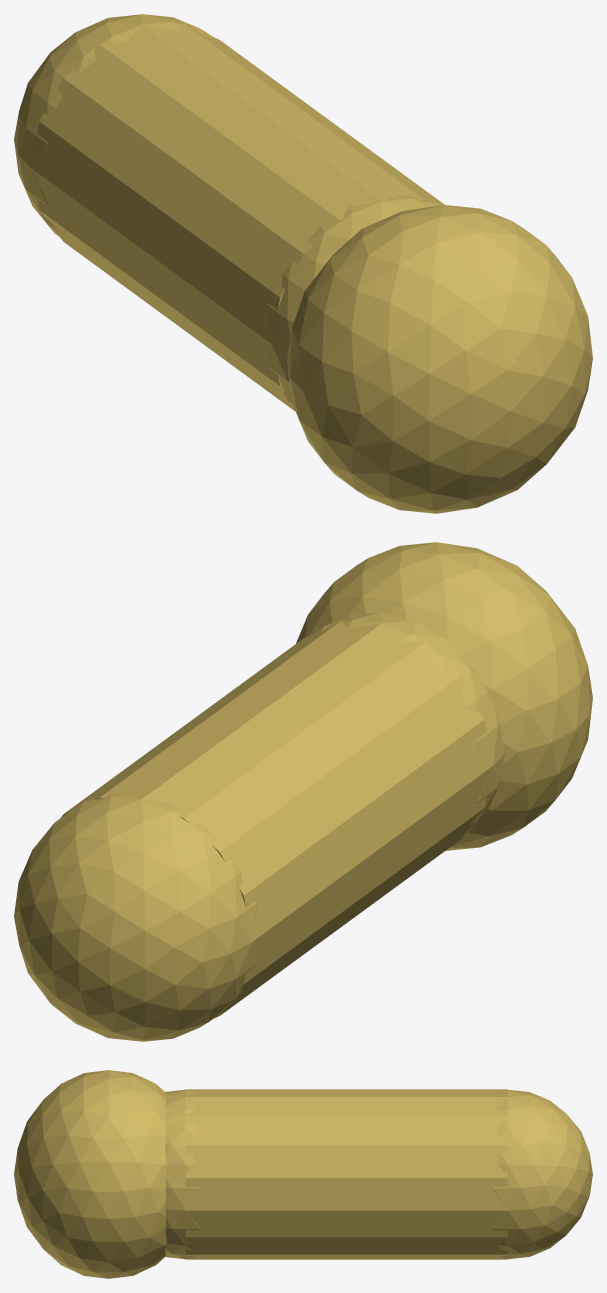
The model's file is teibi_left_upper_arm.glb.
The picture shows the model from 3 angles, top to bottom: view 1: azimuth 30°, elevation 25°; view 2: azimuth 150°, elevation 25°; view 3: azimuth 270°, elevation 25°; orthographic projection. The views are drawn at different scales.
Parts seen in each view (by area): view 1: geometry_0; view 2: geometry_0; view 3: geometry_0.
Boxes of the visible parts, bbox=[...] form: geometry_0: bbox=[14, 14, 592, 513]; geometry_0: bbox=[14, 542, 592, 1041]; geometry_0: bbox=[14, 1070, 592, 1278].
Size of the model in its own units: 0.128 by 0.128 by 0.3526.
